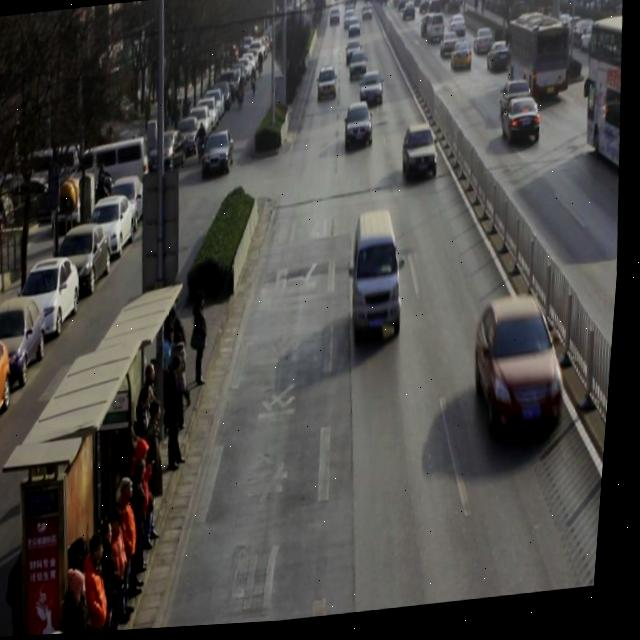car: (477, 296, 580, 449), (402, 125, 445, 190), (502, 102, 546, 155), (345, 104, 378, 157), (502, 84, 537, 127), (360, 74, 388, 115), (487, 46, 515, 81), (318, 70, 341, 106), (474, 32, 498, 64), (452, 45, 476, 77), (440, 36, 463, 66), (350, 55, 370, 86), (346, 44, 366, 71)
truck: (351, 213, 415, 348)
van: (579, 28, 632, 192), (503, 14, 573, 112)
